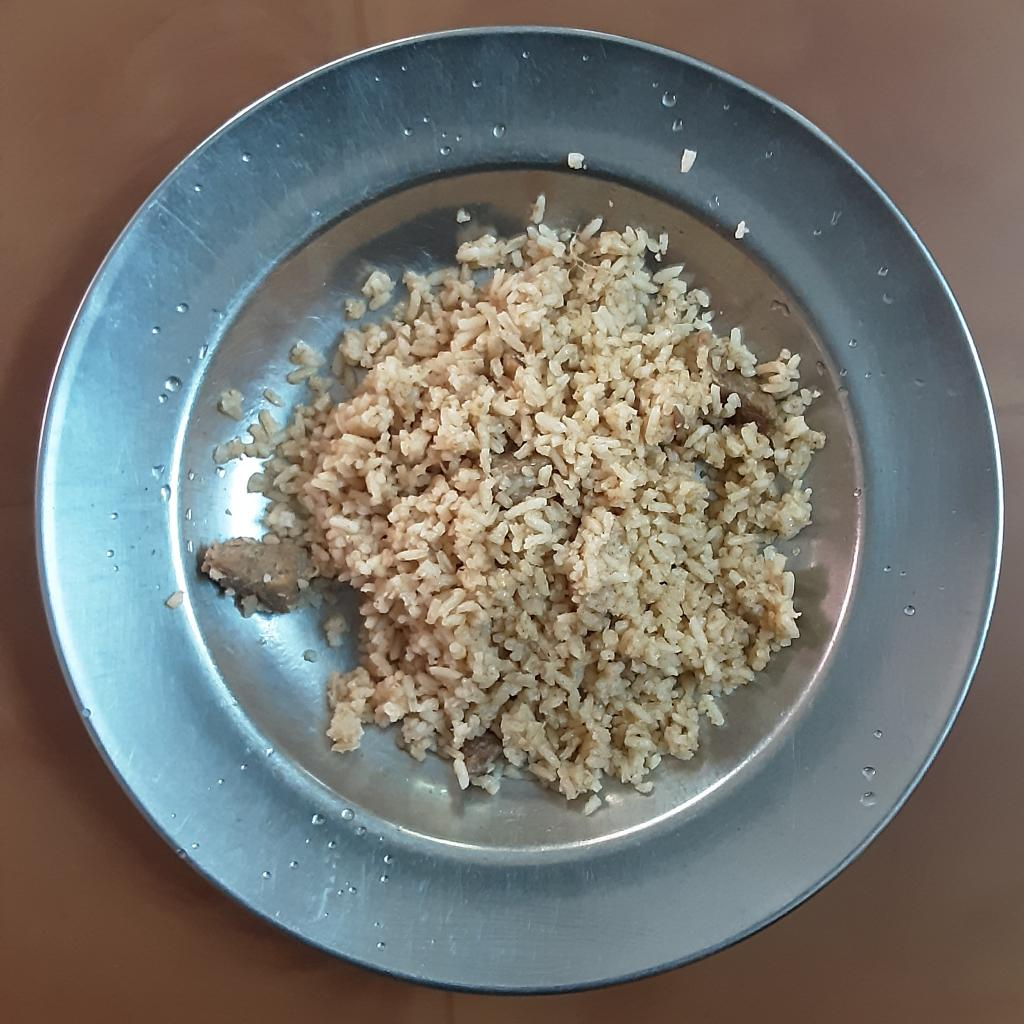biriyani: (201, 206, 825, 813)
